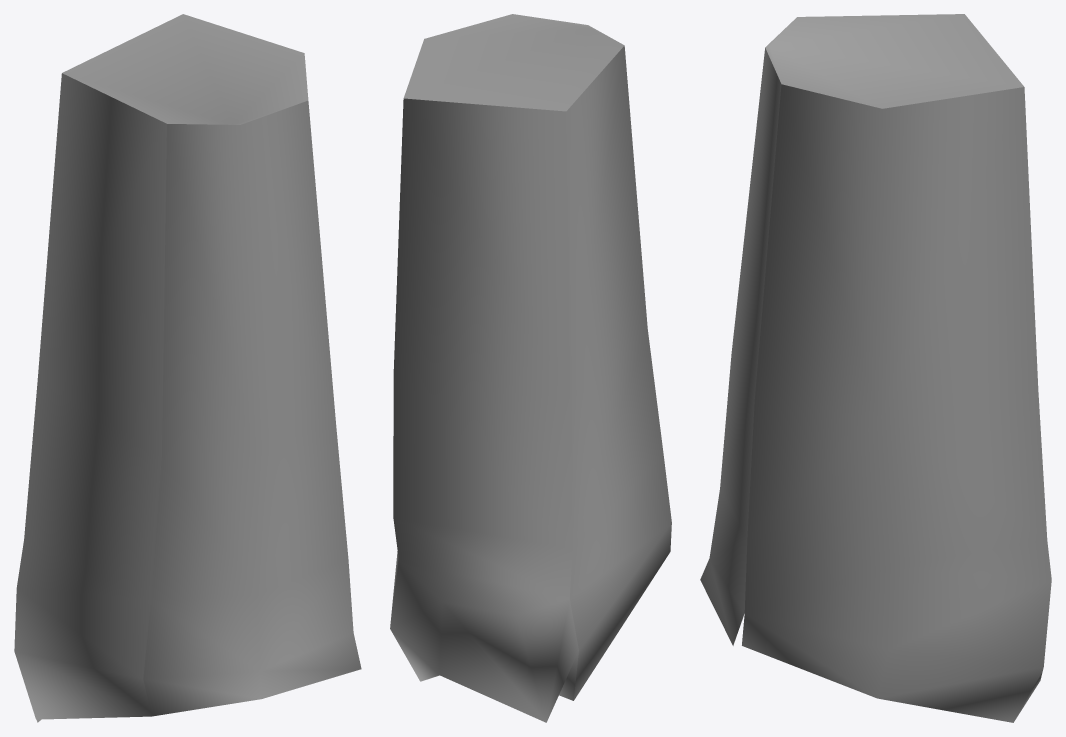
The model's file is right_forearm.glb.
The picture shows the model from 3 angles, left to right: view 1: azimuth 30°, elevation 25°; view 2: azimuth 150°, elevation 25°; view 3: azimuth 270°, elevation 25°; orthographic projection. The views are drawn at different scales.
Parts seen in each view (by area): view 1: sweater-grey_RIGHT_FOREARM; view 2: sweater-grey_RIGHT_FOREARM; view 3: sweater-grey_RIGHT_FOREARM.
Boxes of the visible parts, x1,y1,x2,y2 form: sweater-grey_RIGHT_FOREARM: (14, 14, 361, 722); sweater-grey_RIGHT_FOREARM: (390, 14, 671, 722); sweater-grey_RIGHT_FOREARM: (700, 14, 1051, 722).
Size of the model in its own units: 0.1155 by 0.2921 by 0.1406.
Materials: 1 (1 with a texture image).
